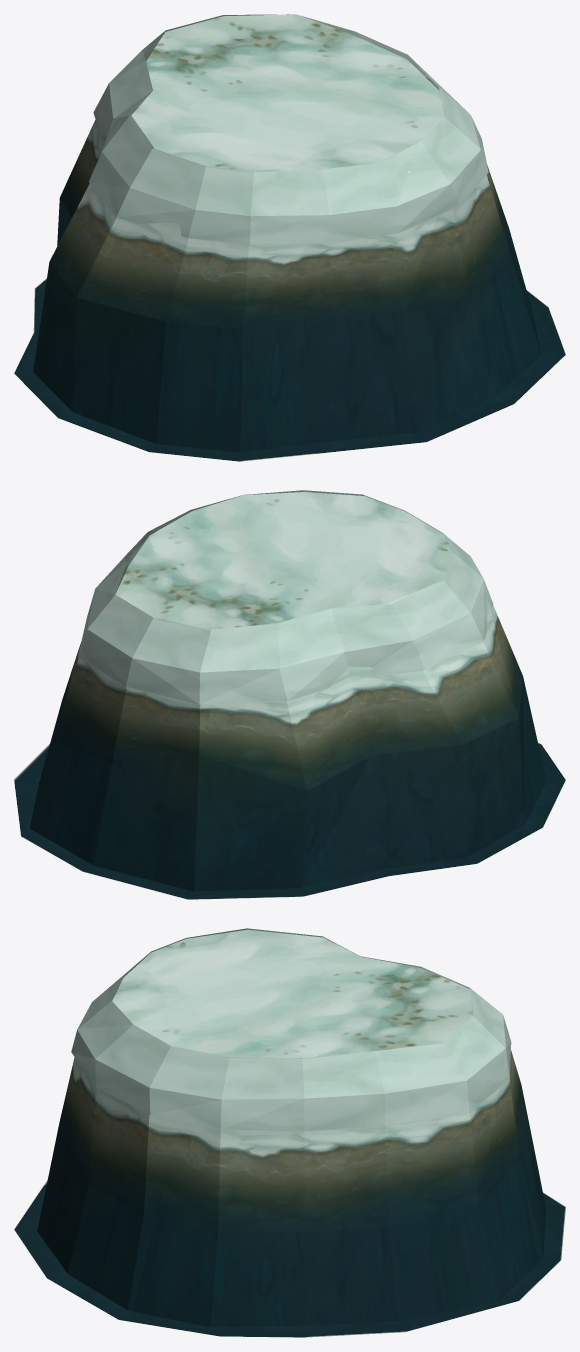
Rendered from riverbed_mesa_03.fbx.
3 renders of one model, top to bottom at view 1: azimuth 30°, elevation 25°; view 2: azimuth 150°, elevation 25°; view 3: azimuth 270°, elevation 25°, orthographic. The views are drawn at different scales.
Parts seen in each view (by area): view 1: obj2.004; view 2: obj2.004; view 3: obj2.004.
Boxes of the visible parts, bbox=[...] form: obj2.004: bbox=[14, 14, 565, 461]; obj2.004: bbox=[14, 490, 565, 899]; obj2.004: bbox=[14, 928, 565, 1337].
Size of the model in its own units: 8.42 by 4.06 by 8.72.
